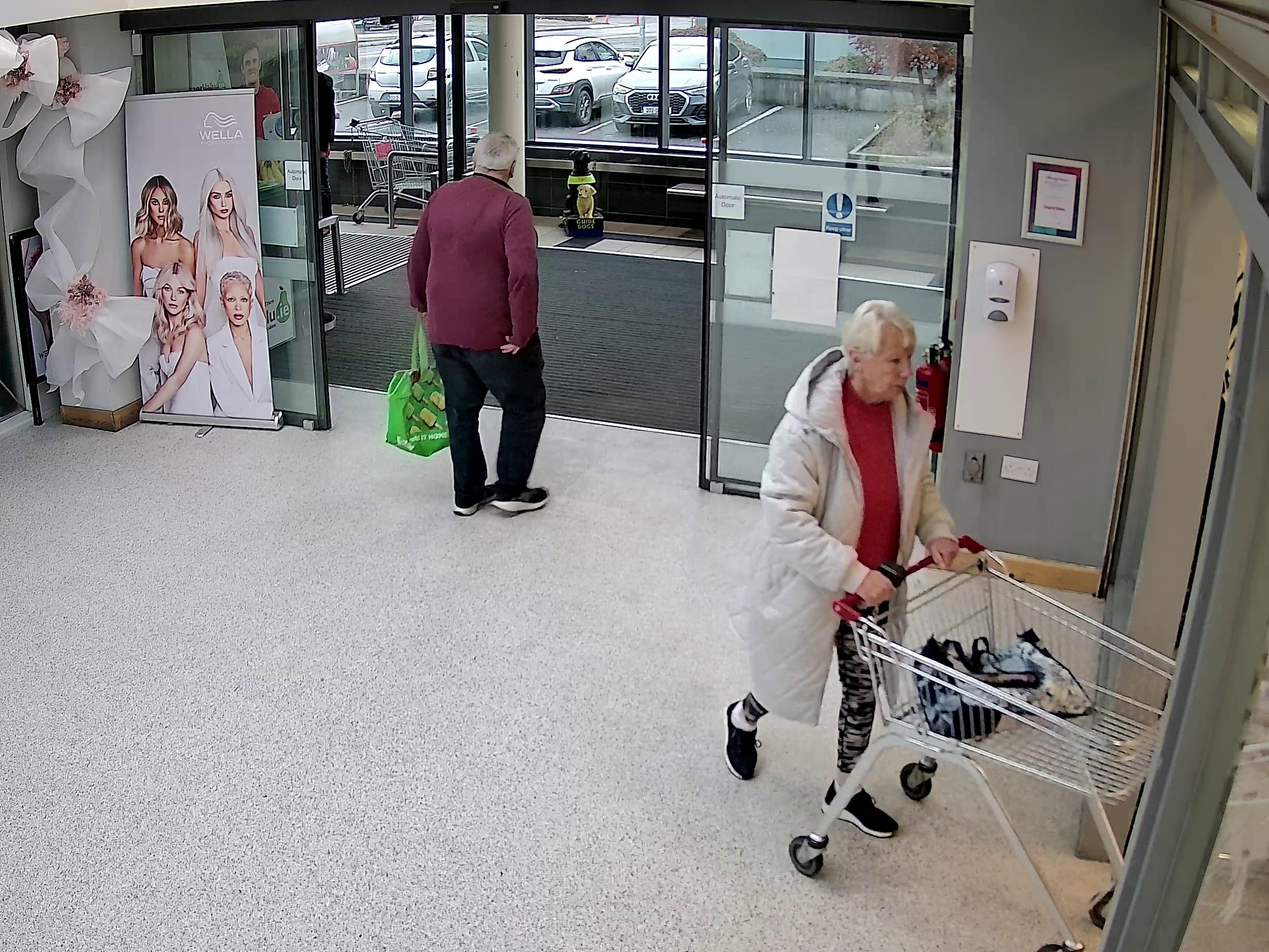empty-shopping-bags: (916, 621, 1090, 736)
empty-trolly: (791, 534, 1181, 952)
filled-shopping-bags: (383, 319, 468, 457)
person: (725, 300, 956, 837), (407, 131, 551, 516)
person-with-basket-trolly-and-shopping-bag: (725, 300, 1182, 952)
person-with-filled-shopping-bag-s-: (382, 131, 551, 515)
